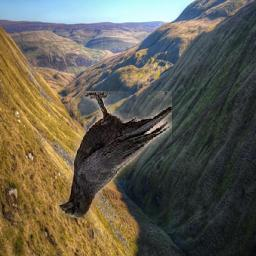Crow: (58, 92, 172, 219)
